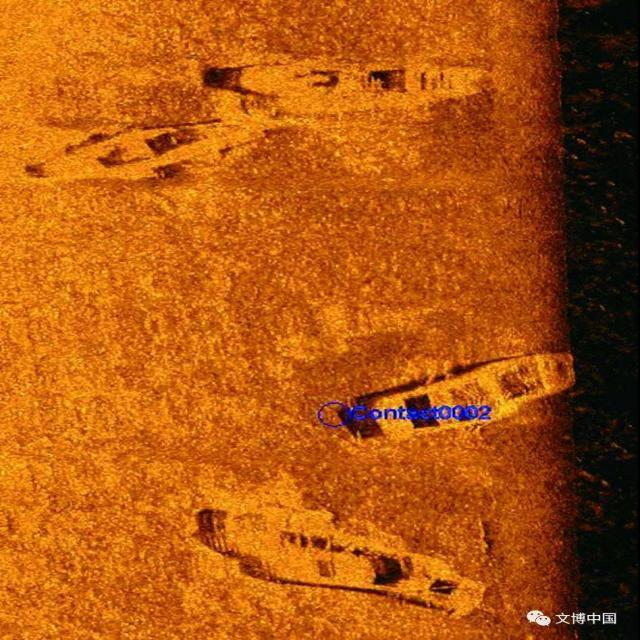shipwreck: (194, 505, 497, 616), (348, 348, 578, 442), (26, 119, 270, 188), (231, 54, 482, 104)
